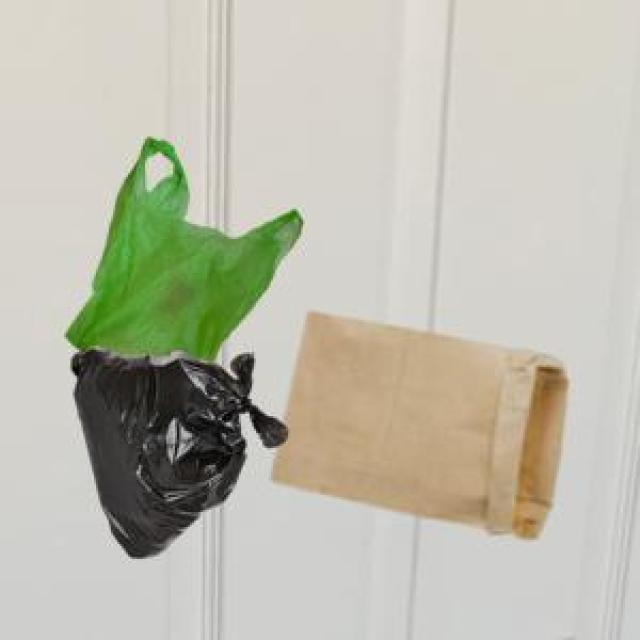miscellaneous trash: (68, 341, 284, 555)
paper: (267, 307, 563, 536)
